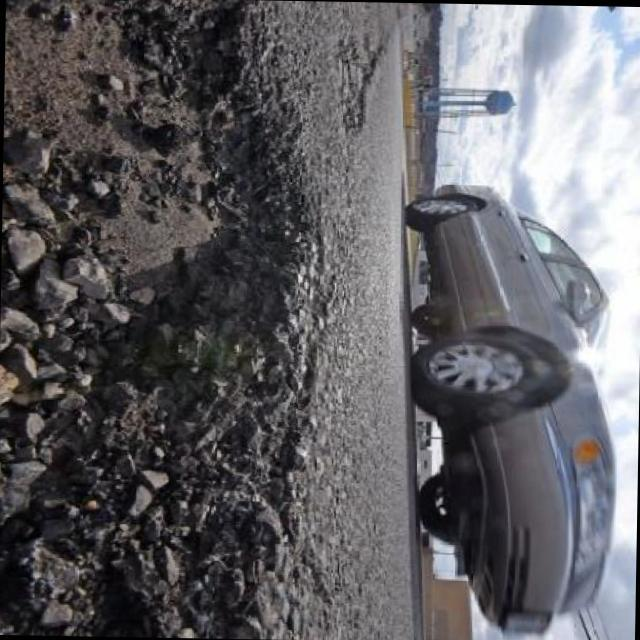pothole: (1, 0, 331, 640)
